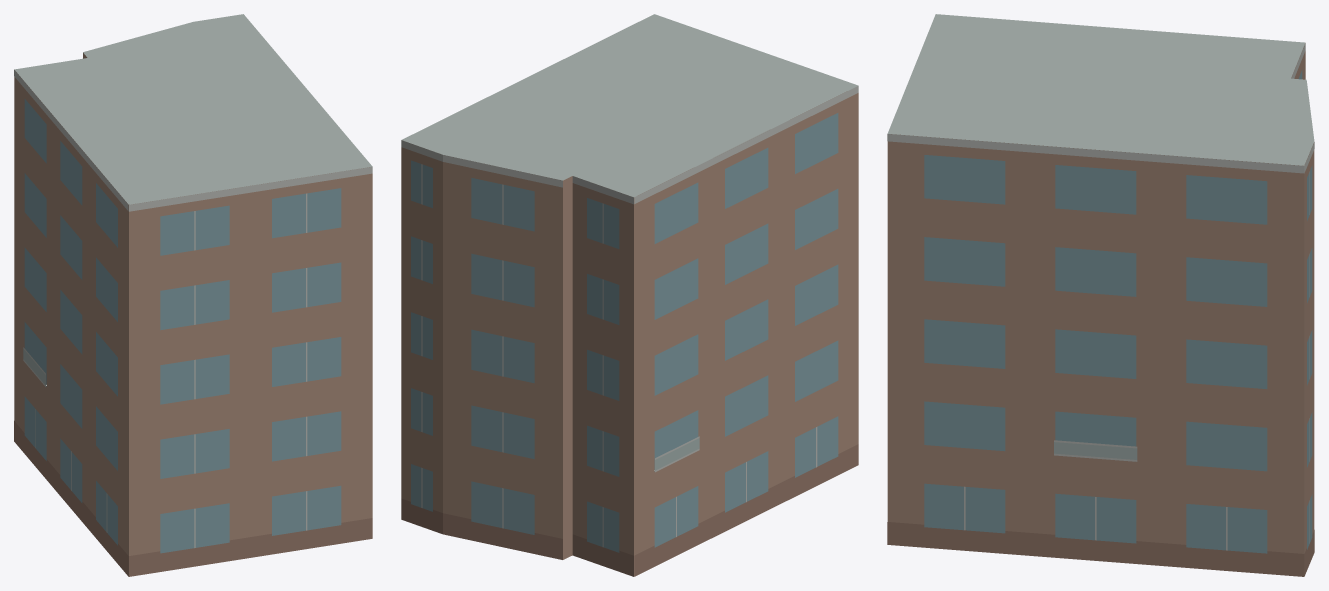
The model's file is survey-upis-32633604.glb.
3 renders of one model, left to right at view 1: azimuth 30°, elevation 25°; view 2: azimuth 150°, elevation 25°; view 3: azimuth 270°, elevation 25°, orthographic. The views are drawn at different scales.
Parts seen in each view (by area): view 1: survey-upis-32633604.tmp; view 2: survey-upis-32633604.tmp; view 3: survey-upis-32633604.tmp.
Part boxes in pixels (bbox=[...]): survey-upis-32633604.tmp: bbox=[14, 14, 372, 576]; survey-upis-32633604.tmp: bbox=[401, 14, 858, 576]; survey-upis-32633604.tmp: bbox=[887, 14, 1314, 576].
Size of the model in its own units: 10.39 by 13.1 by 12.34.
